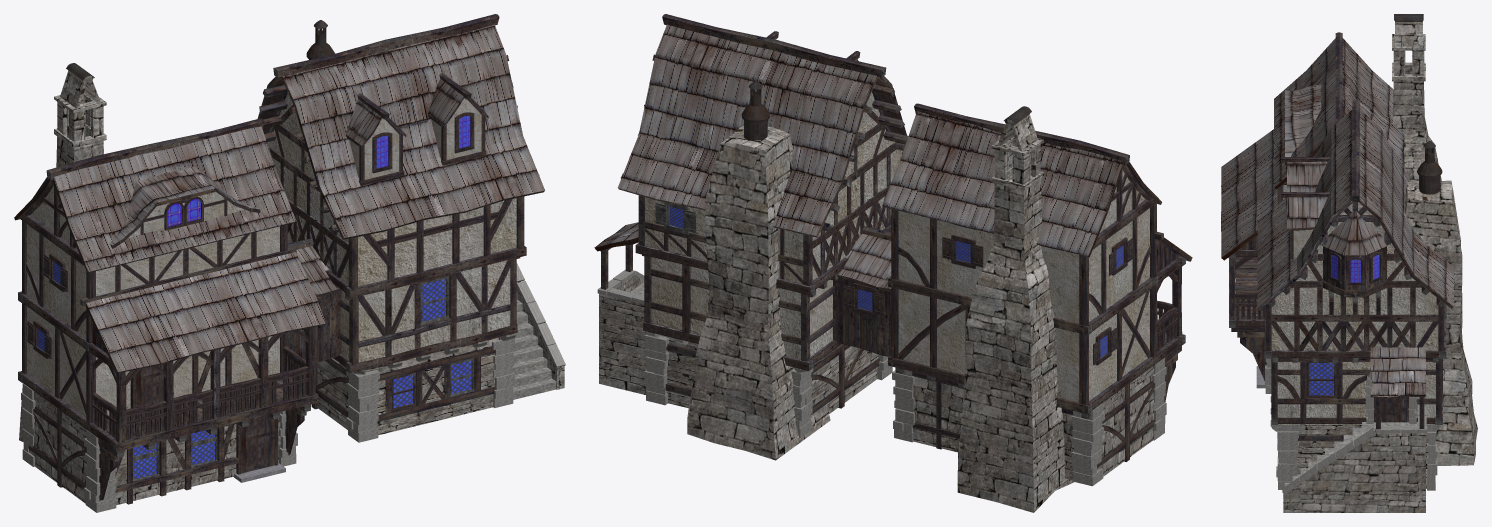
Rendered from medieval_house_01.glb.
3 views of the same model, side by side, from view 1: azimuth 30°, elevation 25°; view 2: azimuth 150°, elevation 25°; view 3: azimuth 270°, elevation 25° (orthographic). The views are drawn at different scales.
Visible parts, largest first — view 1: medieval_house_01; view 2: medieval_house_01; view 3: medieval_house_01.
Boxes of the visible parts, box(x1,y1,x2,y2) form: medieval_house_01: box(14, 14, 565, 512); medieval_house_01: box(594, 14, 1192, 512); medieval_house_01: box(1221, 14, 1477, 512).
Size of the model in its own units: 16.5 by 12.27 by 8.54.
Materials: 13 (13 with a texture image).
